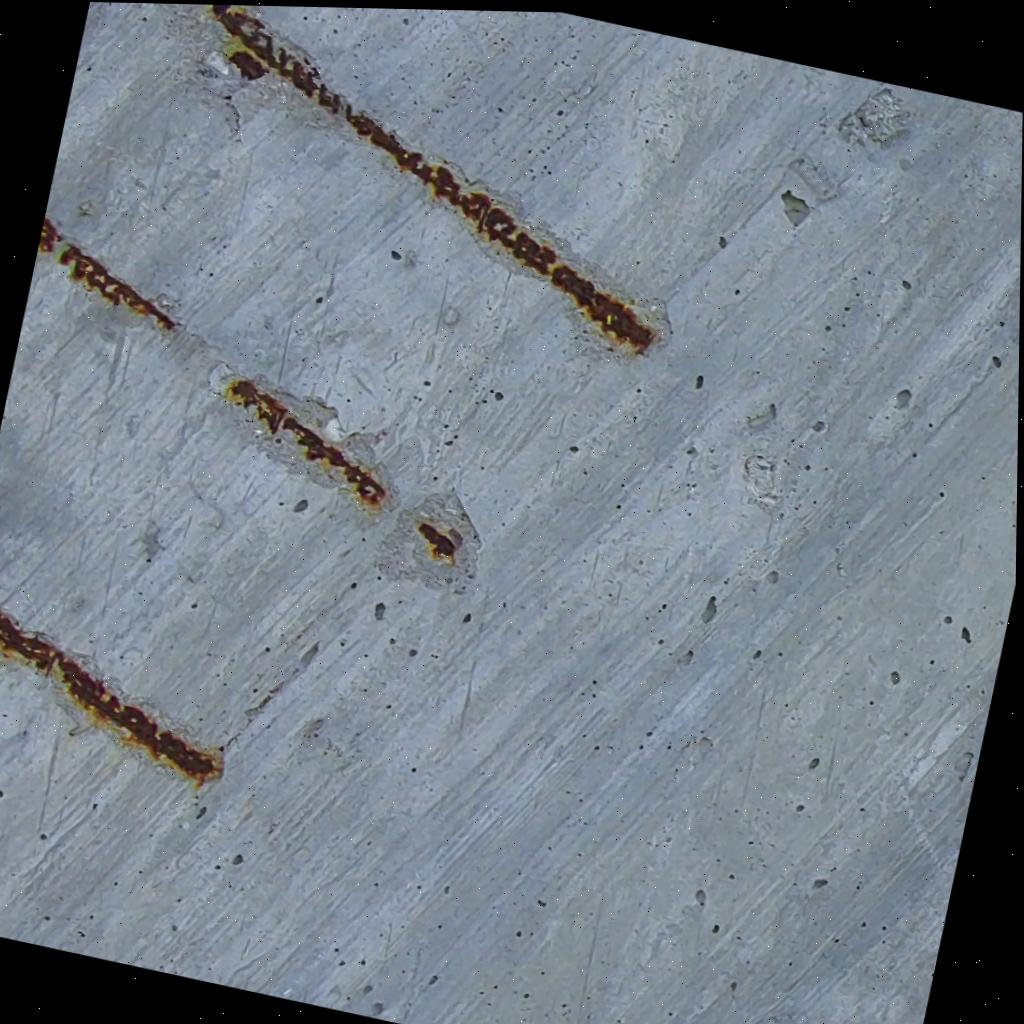exposed_rebar: (213, 5, 654, 351), (0, 613, 220, 781), (225, 378, 391, 510), (39, 218, 178, 330), (417, 521, 464, 565)
spalling: (168, 4, 667, 354), (0, 610, 223, 783), (209, 364, 397, 513), (39, 218, 180, 333), (378, 493, 480, 587)
